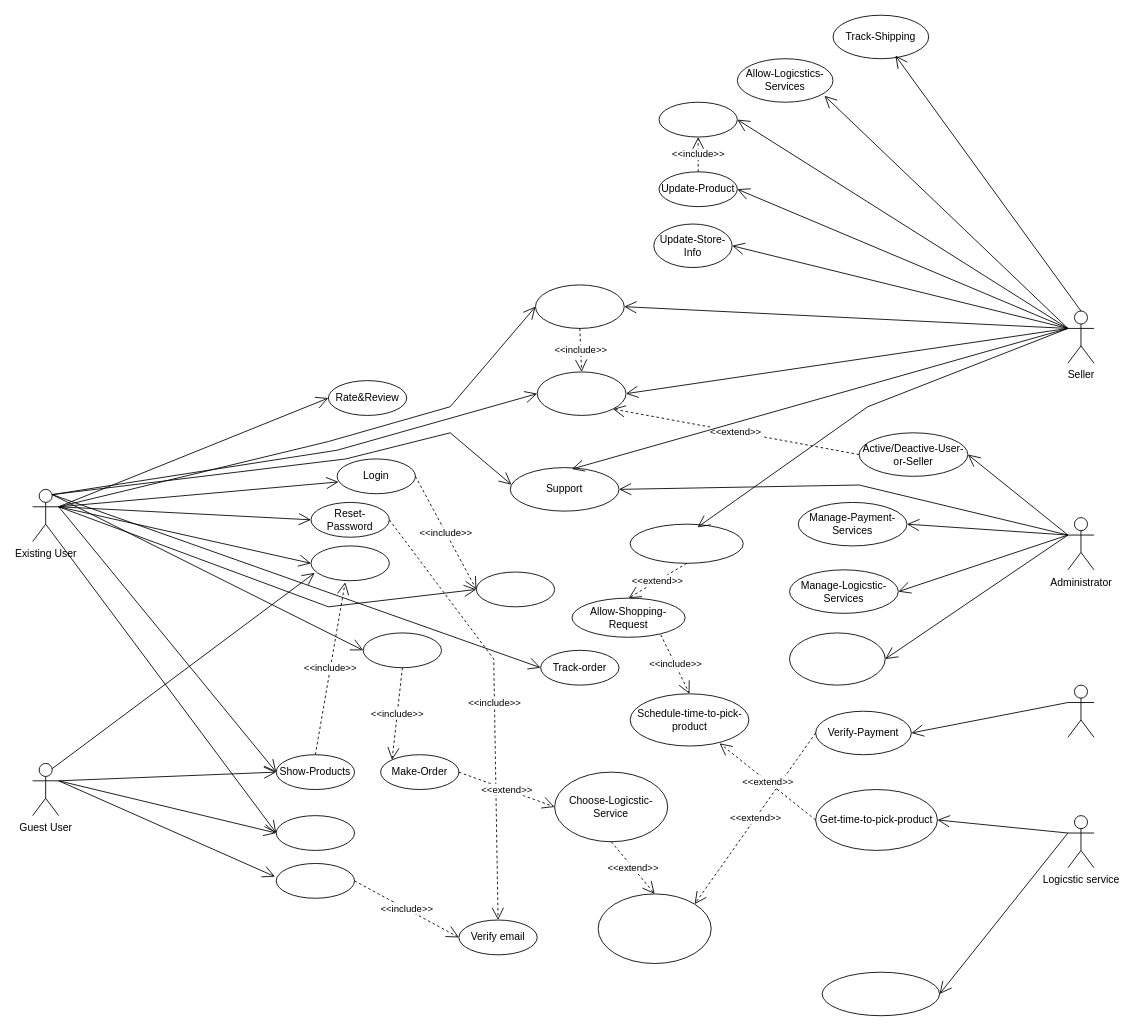
Image size: 1134x1031. Some labels were removed from this diagram. The shapes that lost their labels are listed below. From the top down, each one's centre as x and y in pixels, then its label:
At point (697, 119): "Add-Product".
At point (579, 306): "Chat".
At point (581, 393): "Report-User/Seller".
At point (349, 563): "Sort-Product-by-Category".
At point (686, 543): "Show-Shopping-Request".
At point (515, 589): "Update-User-Info".
At point (402, 650): "Edit-cart".
At point (837, 658): "Manage-product-categories".
At point (1080, 710): "Payment service".
At point (315, 832): "Show-store".
At point (315, 880): "Signup".
At point (654, 928): "Enter-payment-methods & Checkout".
At point (880, 993): "Make-track-shipping".
